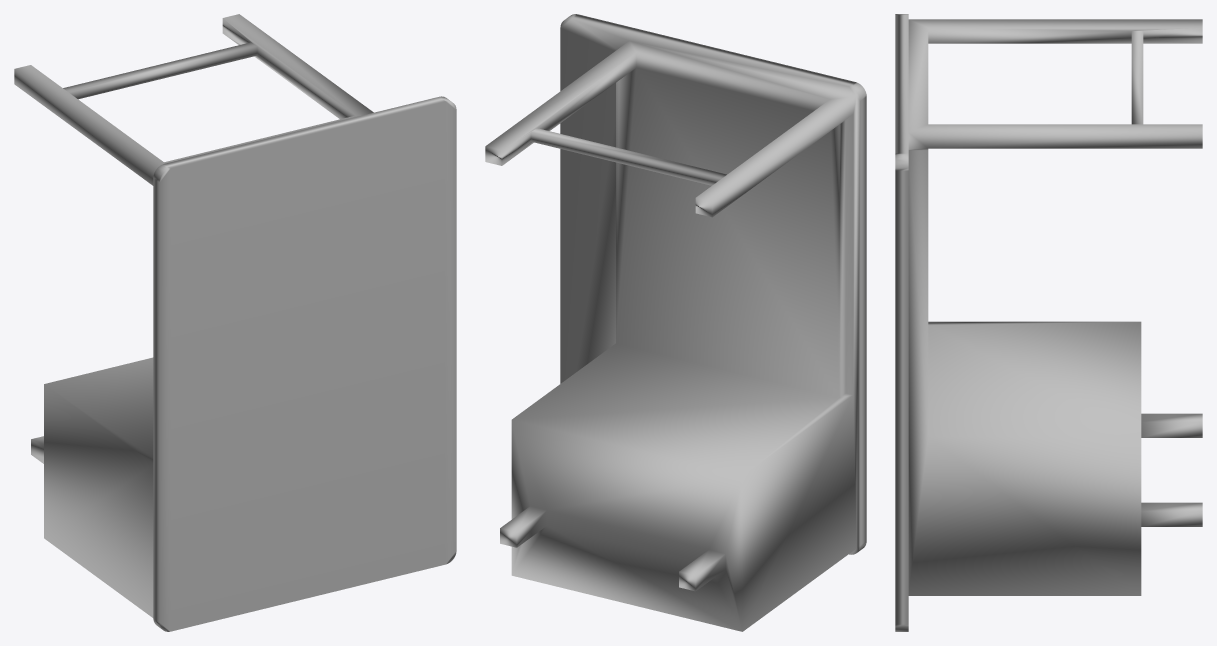
File: desk_sekido.dae
3 views of the same model, side by side, from view 1: azimuth 30°, elevation 25°; view 2: azimuth 150°, elevation 25°; view 3: azimuth 270°, elevation 25° (orthographic). The views are drawn at different scales.
Visible parts, largest first — view 1: transform1; view 2: transform1; view 3: transform1.
Part boxes in pixels (x1,y1,x2,y2): transform1: (14,14,456,631); transform1: (485,14,866,631); transform1: (895,14,1202,631).
Bounding box in the file's own units: 0.805 × 1.2 × 0.7.
Materials: 1 (1 with a texture image).
